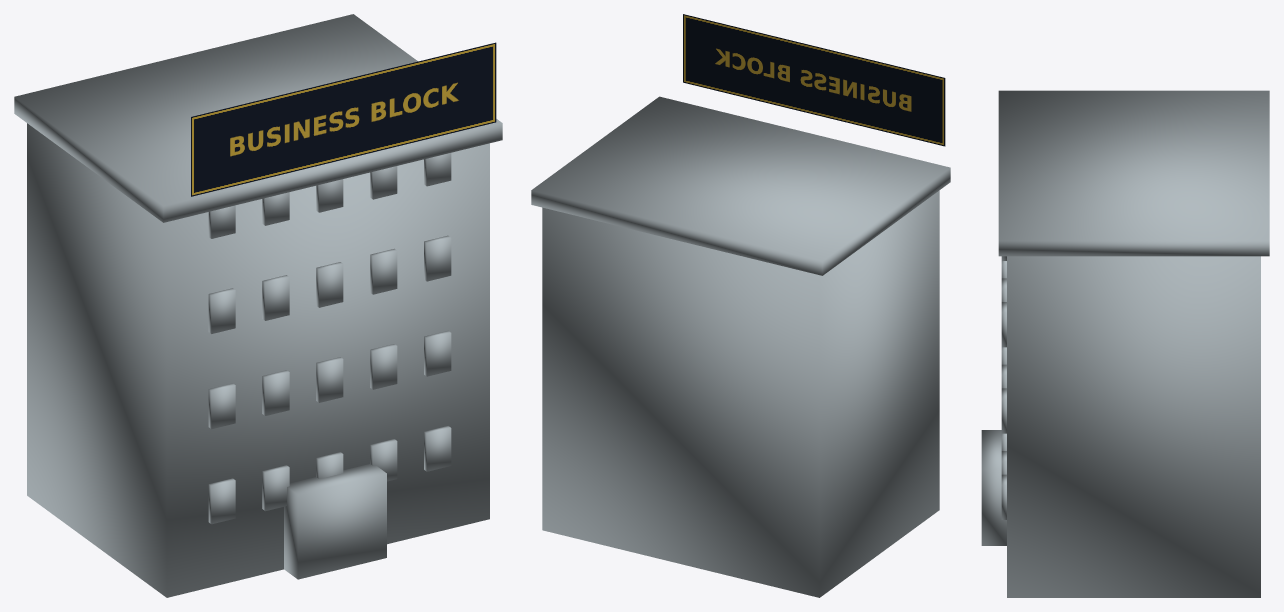
File: business-block.glb
3 views of the same model, side by side, from view 1: azimuth 30°, elevation 25°; view 2: azimuth 150°, elevation 25°; view 3: azimuth 270°, elevation 25° (orthographic). The views are drawn at different scales.
Visible parts, largest first — view 1: Model, Sign; view 2: Model, Sign; view 3: Model.
Boxes of the visible parts, x1,y1,x2,y2 form: Model: (14,14,502,597); Sign: (191,42,496,196); Model: (531,96,950,597); Sign: (683,14,945,146); Model: (981,90,1269,597).
Size of the model in its own units: 8.4 by 11.59 by 6.85.
1 material, 1 textured.
